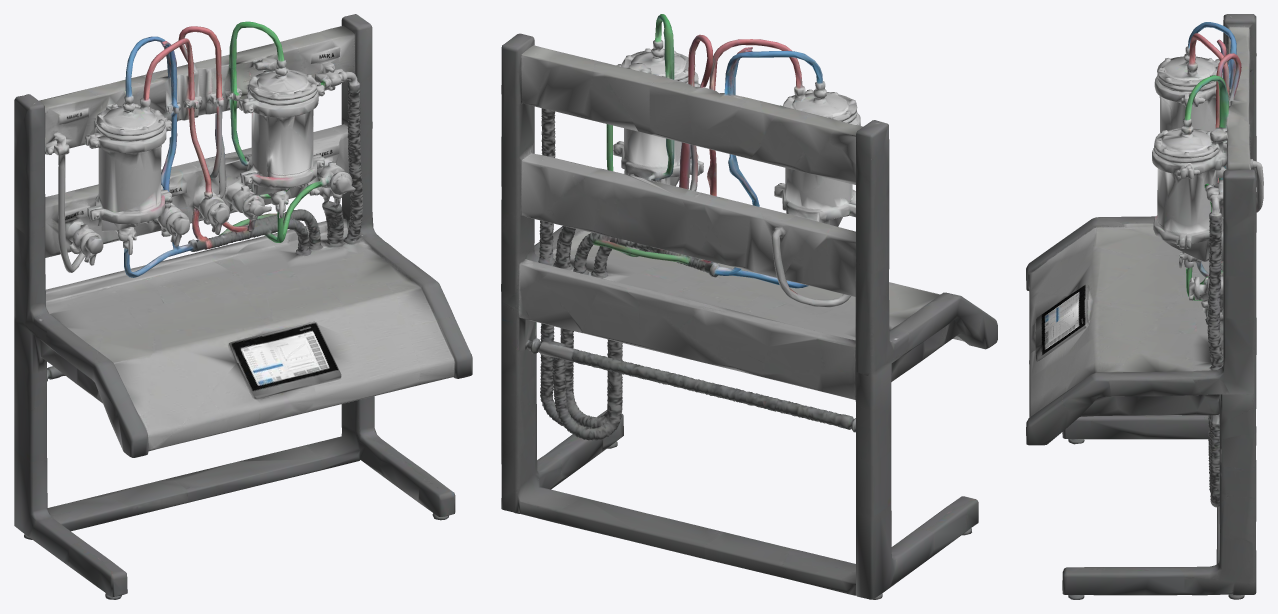
The model's file is compounding-lab.glb.
3 renders of one model, left to right at view 1: azimuth 30°, elevation 25°; view 2: azimuth 150°, elevation 25°; view 3: azimuth 270°, elevation 25°, orthographic. The views are drawn at different scales.
Parts seen in each view (by area): view 1: mesh_node; view 2: mesh_node; view 3: mesh_node.
Boxes of the visible parts, x1,y1,x2,y2 form: mesh_node: (14,14,472,599); mesh_node: (501,14,997,599); mesh_node: (1026,14,1263,599).
Size of the model in its own units: 1.45 by 1.9 by 0.8858.
Materials: 1 (1 with a texture image).
